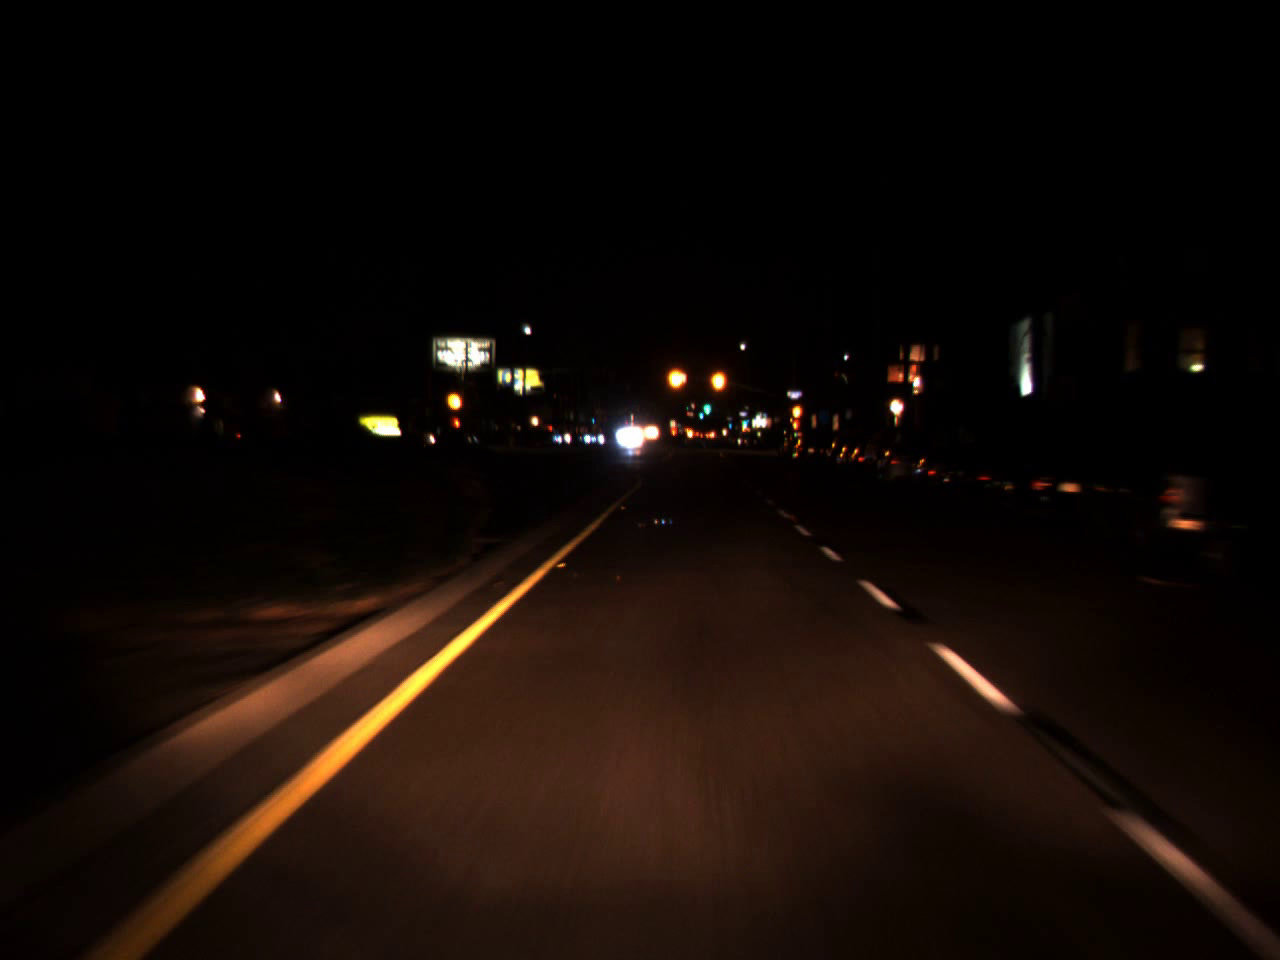go: (701, 397, 711, 415), (726, 416, 733, 431), (741, 415, 748, 427)
warning: (663, 355, 690, 400), (707, 357, 729, 402), (444, 382, 465, 417), (791, 398, 801, 425)
